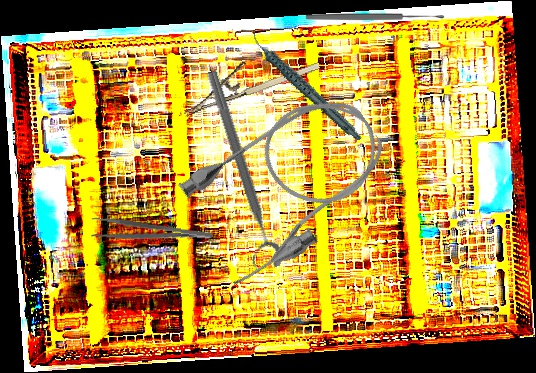Cannula: (168, 74, 408, 296)
Dressing Forceps: (89, 215, 215, 252)
Fixation Ring: (190, 67, 286, 275)
Handpiece: (248, 12, 363, 160)
Needle Holder: (174, 40, 322, 117)
Surgical Spoon: (305, 13, 445, 21)
